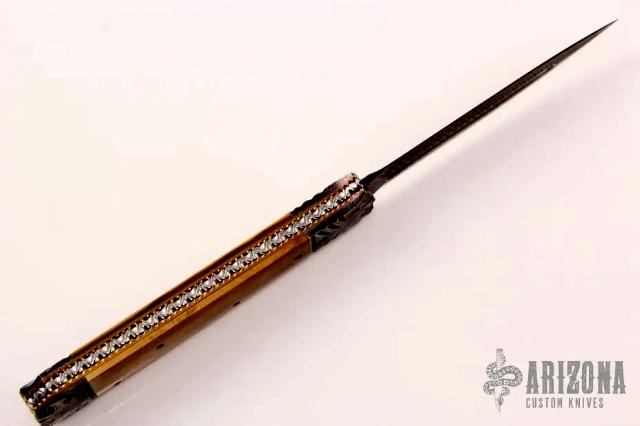ice pick: (18, 19, 620, 424)
